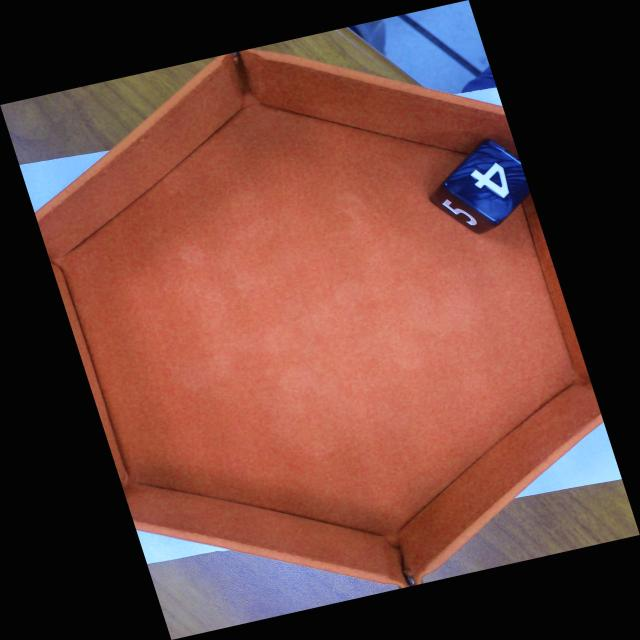dice: (450, 146, 531, 220)
